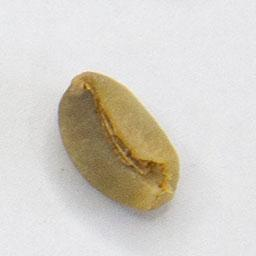longberry: (56, 67, 183, 216)
